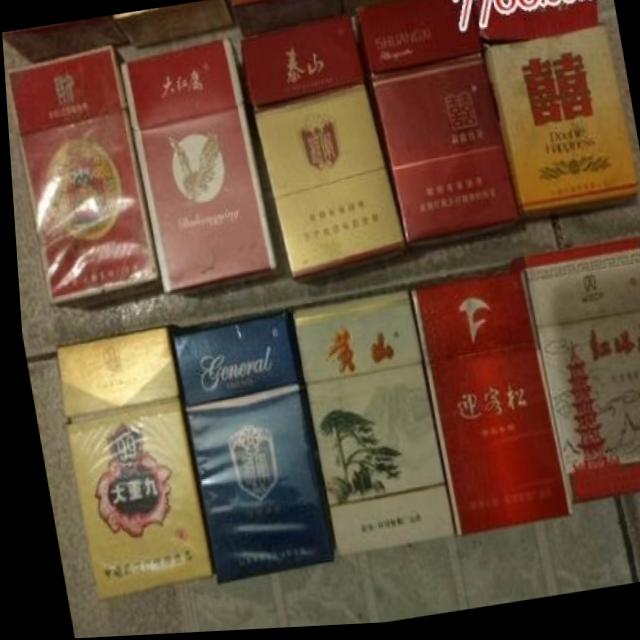box: (405, 264, 568, 544), (166, 311, 325, 585), (289, 291, 449, 560), (241, 22, 406, 281), (52, 325, 205, 603), (120, 40, 281, 292), (357, 0, 519, 247), (5, 45, 154, 300), (476, 0, 636, 226), (515, 241, 640, 505), (117, 0, 233, 49)
